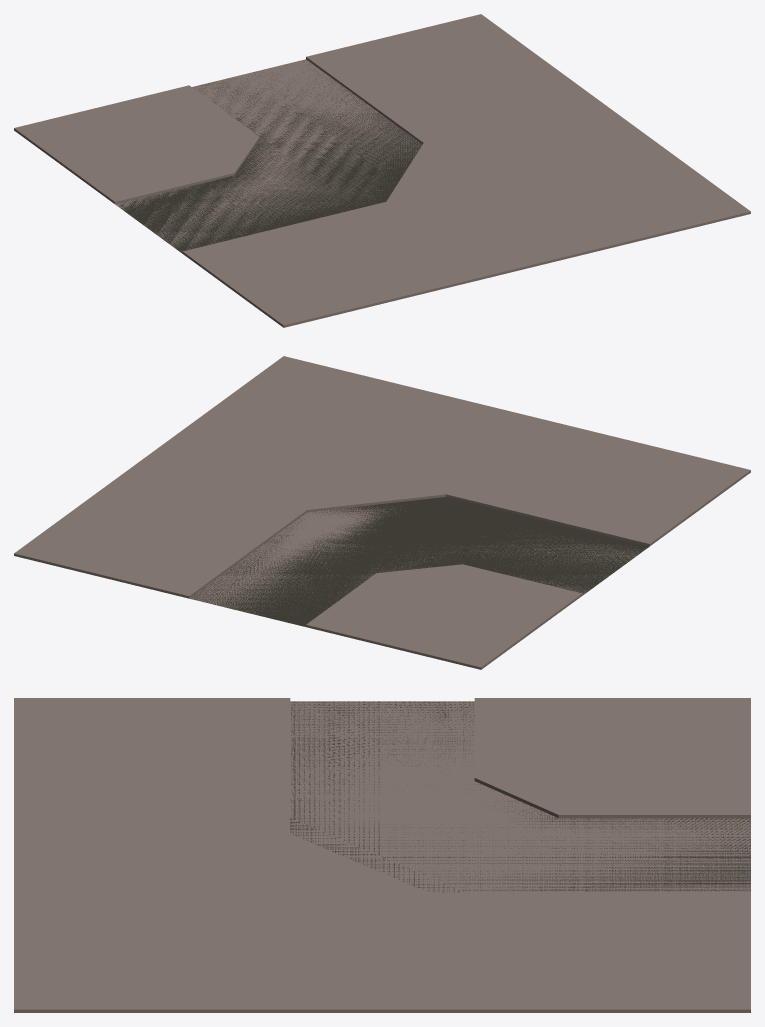
The model's file is Env_Street_Curve.fbx.
3 views of the same model, one above another, from view 1: azimuth 30°, elevation 25°; view 2: azimuth 150°, elevation 25°; view 3: azimuth 270°, elevation 25° (orthographic). The views are drawn at different scales.
Visible parts, largest first — view 1: Env_Street_Curve; view 2: Env_Street_Curve; view 3: Env_Street_Curve.
Boxes of the visible parts, box(x1,y1,x2,y2) form: Env_Street_Curve: box(14, 14, 750, 327); Env_Street_Curve: box(14, 356, 750, 669); Env_Street_Curve: box(14, 698, 750, 1012).
Bounding box in the file's own units: 2000 × 10 × 2000.
